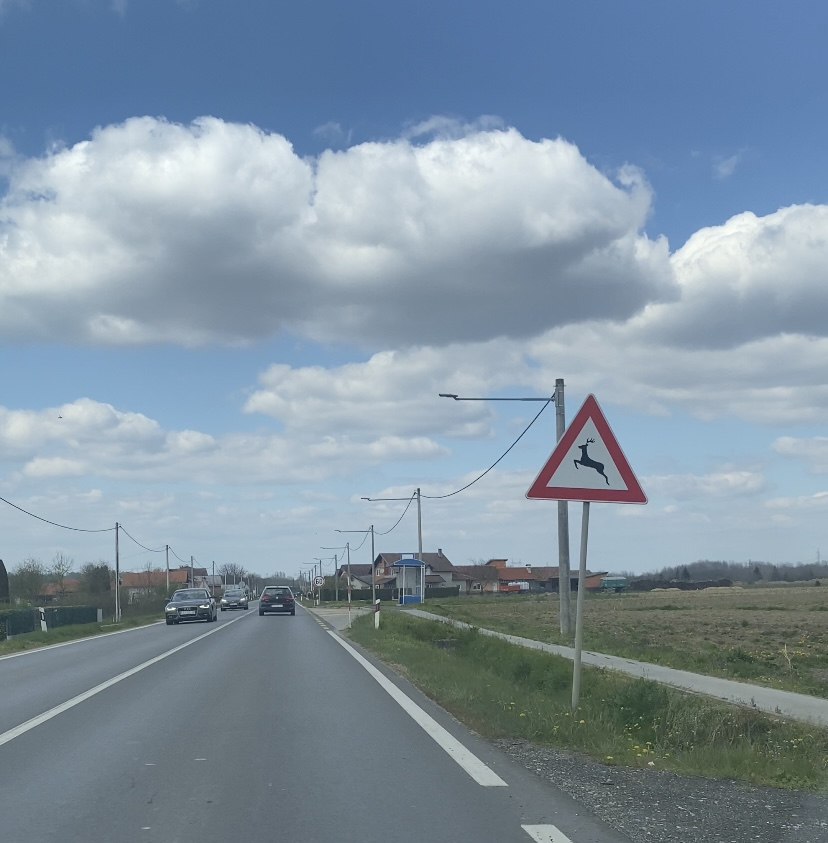Divljač na cesti: (525, 393, 648, 506)
